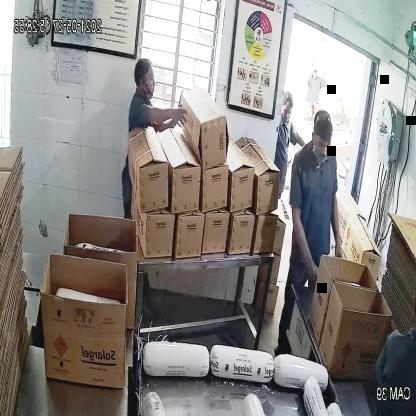no_goggles: (311, 134, 335, 154)
